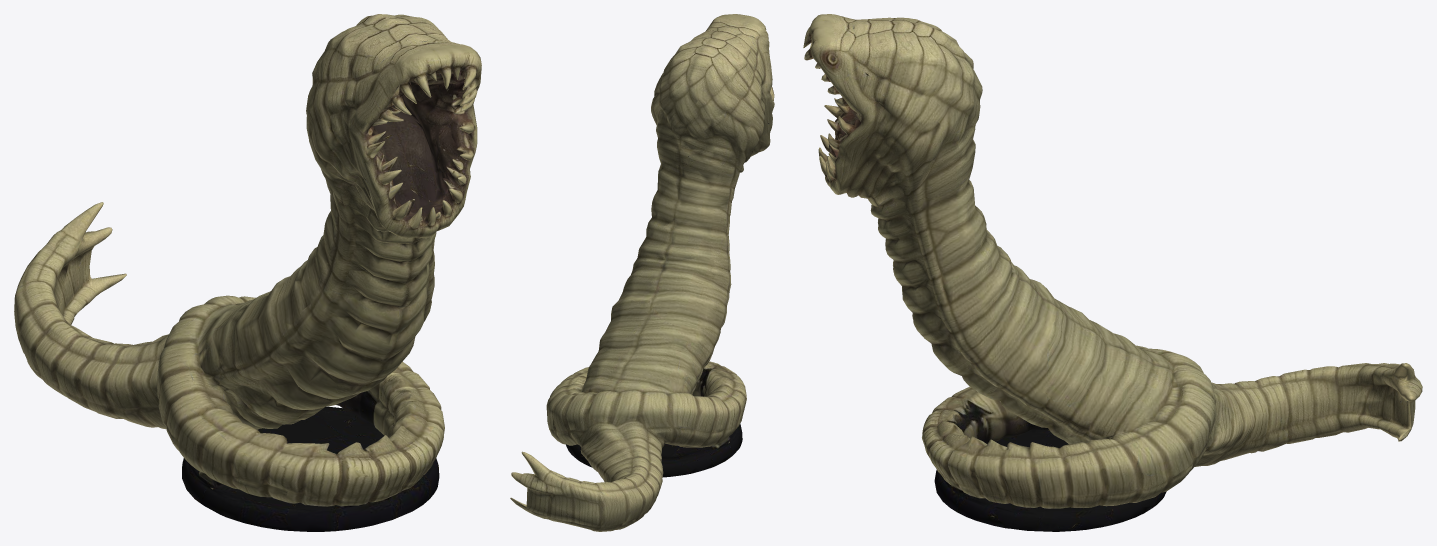
File: crypt_worm.glb
3 views of the same model, side by side, from view 1: azimuth 30°, elevation 25°; view 2: azimuth 150°, elevation 25°; view 3: azimuth 270°, elevation 25° (orthographic). The views are drawn at different scales.
Bounding box in the file's own units: 0.7793 × 1.57 × 1.9.
Materials: 1 (1 with a texture image).
